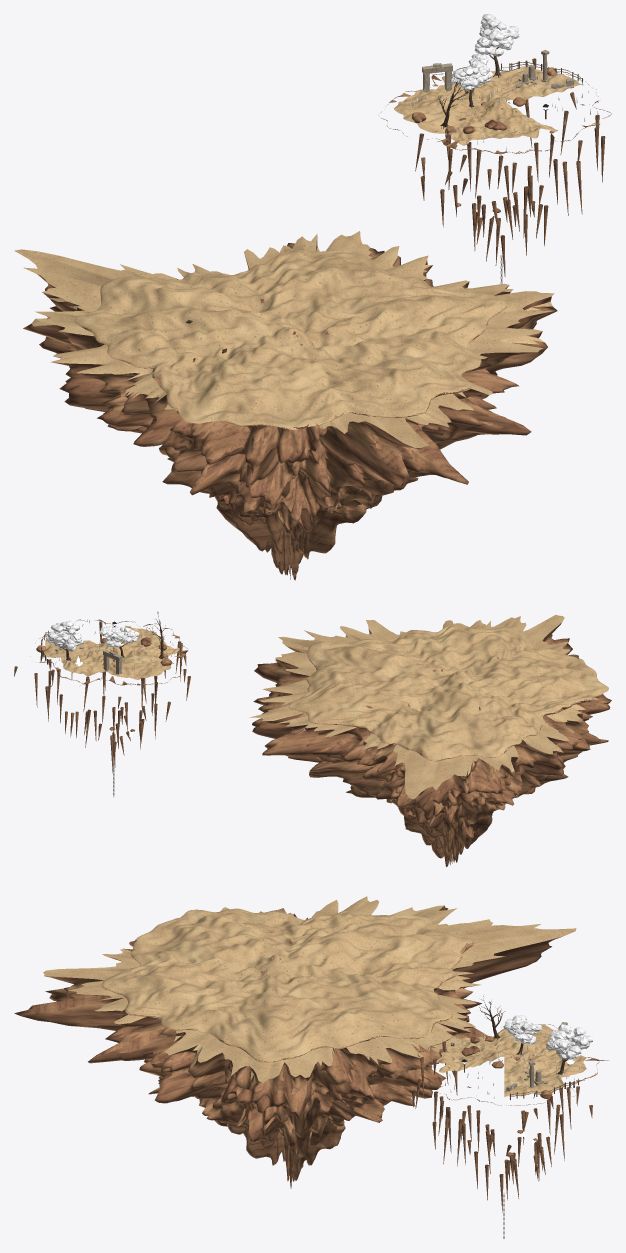
File: map_islands_02.glb
3 views of the same model, one above another, from view 1: azimuth 30°, elevation 25°; view 2: azimuth 150°, elevation 25°; view 3: azimuth 270°, elevation 25° (orthographic). The views are drawn at different scales.
Parts seen in each view (by area): view 1: Isl00_top__sand_00, Isl00_under__cliff_00, Isl00_top__sand_01, Isl00_top__sand_02, Isl01_top__sand_00, Isl00_under__cliff_01, Isl01_props__cliff, Isl00_under__sand, Isl00_under__cliff_02, Isl01_props__leaf_00, Isl01_props__leaf_01, Isl01_props__stone; view 2: Isl00_top__sand_00, Isl00_under__cliff_00, Isl00_top__sand_01, Isl00_top__sand_02, Isl00_under__cliff_01, Isl01_top__sand_00, Isl00_under__sand, Isl01_props__cliff, Isl01_props__leaf_00, Isl01_props__leaf_01, Isl01_top__cliff; view 3: Isl00_top__sand_00, Isl00_top__sand_01, Isl00_under__cliff_00, Isl00_top__sand_02, Isl00_under__cliff_01, Isl00_under__cliff_02, Isl01_top__sand_00, Isl00_under__sand, Isl01_props__cliff, Isl01_props__leaf_00, Isl01_props__leaf_01.
Part boxes in pixels (<box>): Isl00_top__sand_00: <box>101,256,464,414</box>; Isl00_under__cliff_00: <box>23,236,547,514</box>; Isl00_top__sand_01: <box>14,234,481,427</box>; Isl00_top__sand_02: <box>35,234,554,448</box>; Isl01_top__sand_00: <box>394,67,583,145</box>; Isl00_under__cliff_01: <box>167,282,557,575</box>; Isl01_props__cliff: <box>411,58,605,276</box>; Isl00_under__sand: <box>31,231,552,410</box>; Isl00_under__cliff_02: <box>258,414,418,580</box>; Isl01_props__leaf_00: <box>404,18,598,151</box>; Isl01_props__leaf_01: <box>474,14,519,56</box>; Isl01_props__stone: <box>422,50,573,92</box>; Isl00_top__sand_00: <box>313,632,591,746</box>; Isl00_under__cliff_00: <box>252,623,611,811</box>; Isl00_top__sand_01: <box>277,629,599,799</box>; Isl00_top__sand_02: <box>276,615,608,770</box>; Isl00_under__cliff_01: <box>253,632,535,865</box>; Isl01_top__sand_00: <box>44,625,179,679</box>; Isl00_under__sand: <box>249,620,585,775</box>; Isl01_props__cliff: <box>14,621,190,772</box>; Isl01_props__leaf_00: <box>47,619,179,679</box>; Isl01_props__leaf_01: <box>47,620,83,651</box>; Isl01_top__cliff: <box>30,619,188,685</box>; Isl00_top__sand_00: <box>143,914,447,1047</box>; Isl00_top__sand_01: <box>125,908,576,1049</box>; Isl00_under__cliff_00: <box>14,905,562,1106</box>; Isl00_top__sand_02: <box>43,905,476,1082</box>; Isl00_under__cliff_01: <box>71,1025,384,1181</box>; Isl00_under__cliff_02: <box>199,1090,346,1188</box>; Isl01_top__sand_00: <box>436,1025,586,1097</box>; Isl00_under__sand: <box>94,896,481,1085</box>; Isl01_props__cliff: <box>412,1036,592,1212</box>; Isl01_props__leaf_00: <box>429,1015,592,1099</box>; Isl01_props__leaf_01: <box>546,1024,589,1059</box>.
Bounding box in the file's own units: 286 × 158 × 271.
9 materials, 6 textured.
